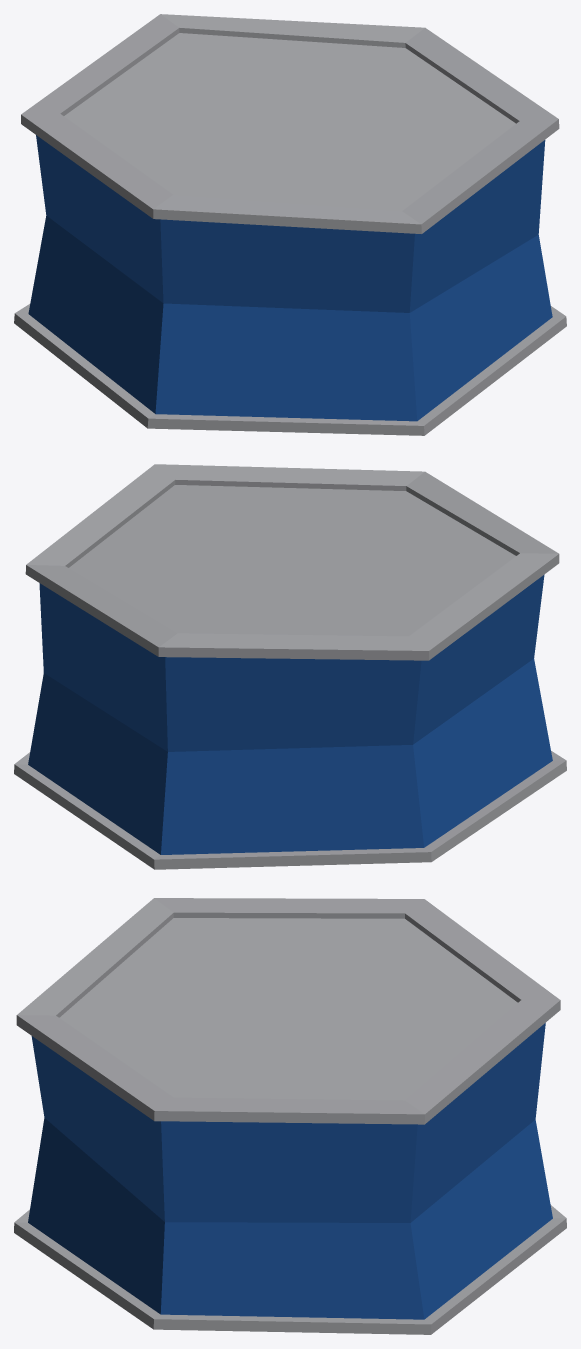
File: Can_Small_Damaged.fbx
The picture shows the model from 3 angles, top to bottom: view 1: azimuth 30°, elevation 25°; view 2: azimuth 150°, elevation 25°; view 3: azimuth 270°, elevation 25°; orthographic projection. The views are drawn at different scales.
Visible parts, largest first — view 1: Can_Small [Damaged]; view 2: Can_Small [Damaged]; view 3: Can_Small [Damaged].
Boxes of the visible parts, x1,y1,x2,y2 form: Can_Small [Damaged]: (14,14,566,435); Can_Small [Damaged]: (14,464,566,869); Can_Small [Damaged]: (14,898,566,1334).
Bounding box in the file's own units: 9.46 × 4.91 × 10.48.
